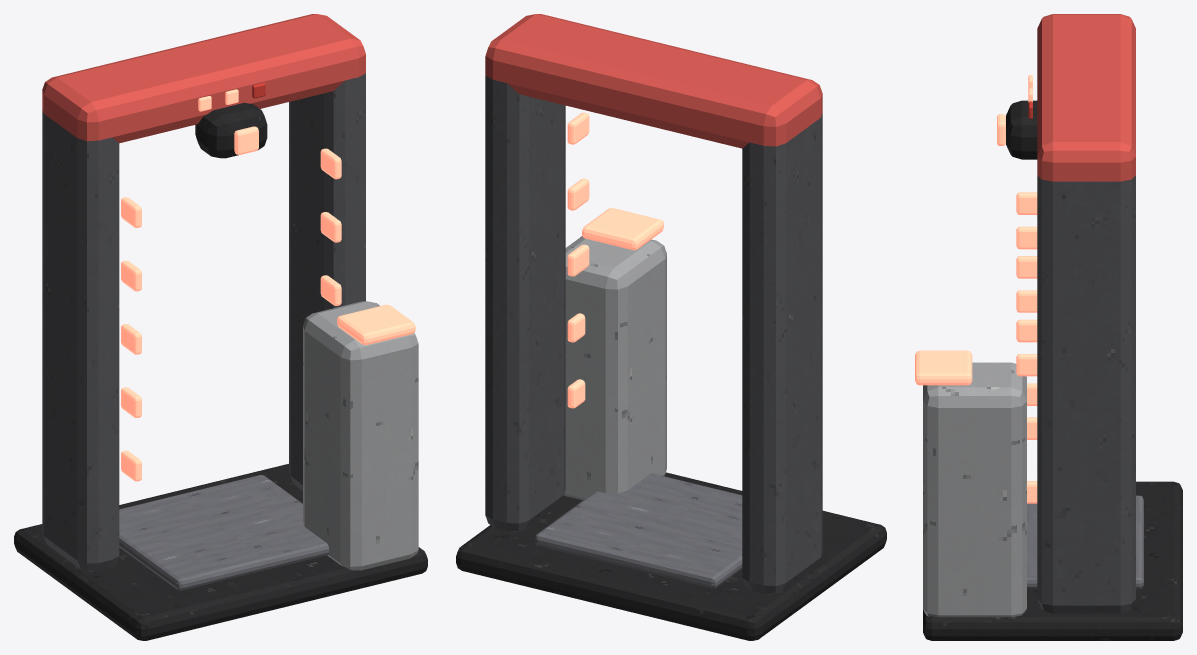
The model's file is decor_sec_processing_scanner.glb.
3 views of the same model, side by side, from view 1: azimuth 30°, elevation 25°; view 2: azimuth 150°, elevation 25°; view 3: azimuth 270°, elevation 25° (orthographic). The views are drawn at different scales.
Parts seen in each view (by area): view 1: DEC_SecProcessingScanner__Arch_Post_1, DEC_SecProcessingScanner__Print_Pedestal, DEC_SecProcessingScanner__Arch_Top, DEC_SecProcessingScanner__Arch_Post_2, DEC_SecProcessingScanner__Base, DEC_SecProcessingScanner__Scan_Plate, DEC_SecProcessingScanner__Camera, DEC_SecProcessingScanner__Fingerprint_Pad, DEC_SecProcessingScanner__Camera_Lens; view 2: DEC_SecProcessingScanner__Arch_Post_1, DEC_SecProcessingScanner__Arch_Post_2, DEC_SecProcessingScanner__Arch_Top, DEC_SecProcessingScanner__Print_Pedestal, DEC_SecProcessingScanner__Base, DEC_SecProcessingScanner__Scan_Plate, DEC_SecProcessingScanner__Fingerprint_Pad; view 3: DEC_SecProcessingScanner__Arch_Post_2, DEC_SecProcessingScanner__Print_Pedestal, DEC_SecProcessingScanner__Arch_Top, DEC_SecProcessingScanner__Base, DEC_SecProcessingScanner__Fingerprint_Pad, DEC_SecProcessingScanner__Camera, DEC_SecProcessingScanner__Scan_Plate, DEC_SecProcessingScanner__Sensor_1_2, DEC_SecProcessingScanner__Sensor_2_5, DEC_SecProcessingScanner__Sensor_1_3, DEC_SecProcessingScanner__Sensor_1_4, DEC_SecProcessingScanner__Sensor_2_4 (+1 smaller).
Part boxes in pixels (x1,y1,x2,y2): DEC_SecProcessingScanner__Arch_Post_1: (42,109,119,571); DEC_SecProcessingScanner__Print_Pedestal: (303,301,418,570); DEC_SecProcessingScanner__Arch_Top: (42,14,365,143); DEC_SecProcessingScanner__Arch_Post_2: (289,73,365,490); DEC_SecProcessingScanner__Base: (14,464,427,640); DEC_SecProcessingScanner__Scan_Plate: (119,475,328,590); DEC_SecProcessingScanner__Camera: (195,102,267,158); DEC_SecProcessingScanner__Fingerprint_Pad: (337,304,415,345); DEC_SecProcessingScanner__Camera_Lens: (234,126,258,154); DEC_SecProcessingScanner__Arch_Post_1: (742,113,822,594); DEC_SecProcessingScanner__Arch_Post_2: (485,76,565,531); DEC_SecProcessingScanner__Arch_Top: (485,14,822,148); DEC_SecProcessingScanner__Print_Pedestal: (564,236,666,500); DEC_SecProcessingScanner__Base: (456,472,886,640); DEC_SecProcessingScanner__Scan_Plate: (535,473,742,588); DEC_SecProcessingScanner__Fingerprint_Pad: (582,208,663,250); DEC_SecProcessingScanner__Arch_Post_2: (1037,175,1135,613); DEC_SecProcessingScanner__Print_Pedestal: (923,362,1026,617); DEC_SecProcessingScanner__Arch_Top: (1037,14,1135,181); DEC_SecProcessingScanner__Base: (923,481,1182,640); DEC_SecProcessingScanner__Fingerprint_Pad: (915,350,972,385); DEC_SecProcessingScanner__Camera: (1006,100,1037,159); DEC_SecProcessingScanner__Scan_Plate: (1027,495,1143,589); DEC_SecProcessingScanner__Sensor_1_2: (1016,319,1037,342); DEC_SecProcessingScanner__Sensor_2_5: (1016,226,1037,249); DEC_SecProcessingScanner__Sensor_1_3: (1016,256,1037,278); DEC_SecProcessingScanner__Sensor_1_4: (1016,192,1037,214); DEC_SecProcessingScanner__Sensor_2_4: (1016,290,1037,312).
Size of the model in its own units: 1.3 by 2.1 by 1.03.
7 materials, 4 textured.
